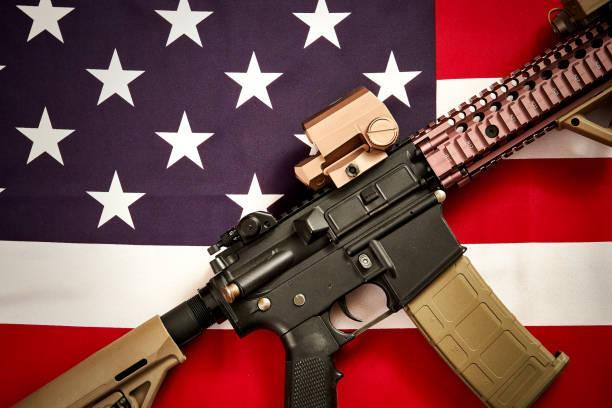larga: (7, 0, 612, 408)
